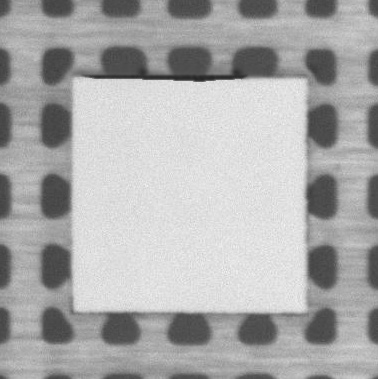DIE_BROKEN: (88, 69, 246, 86)
